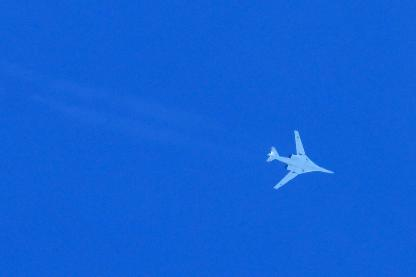Su34: (266, 129, 334, 188)
